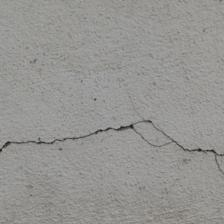Crack: (2, 58, 222, 117)
